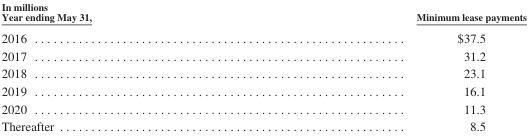table: (0, 0, 526, 133)
table column: (253, 0, 526, 133), (0, 0, 253, 133)
table column header: (0, 0, 526, 26)
table row: (0, 0, 526, 26), (0, 26, 526, 46), (0, 46, 526, 64), (0, 81, 526, 99), (0, 99, 526, 117), (0, 64, 526, 81), (0, 117, 526, 133)
